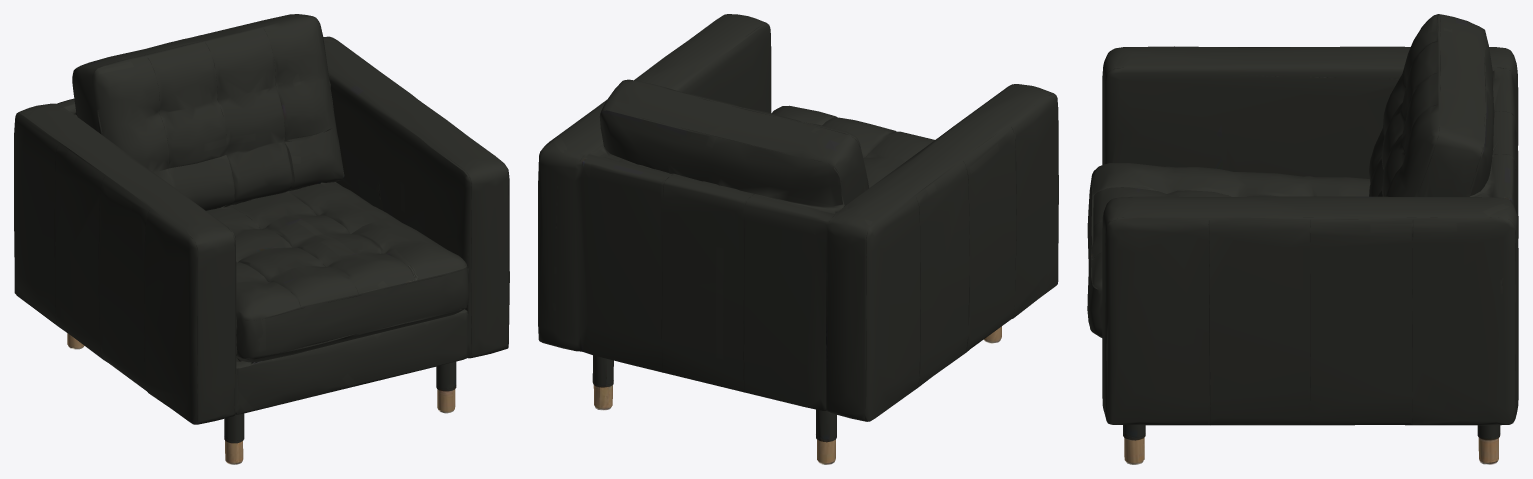
3 views of the same model, side by side, from view 1: azimuth 30°, elevation 25°; view 2: azimuth 150°, elevation 25°; view 3: azimuth 270°, elevation 25° (orthographic). The views are drawn at different scales.
Visible parts, largest first — view 1: ProcessedMeshNode; view 2: ProcessedMeshNode; view 3: ProcessedMeshNode.
Boxes of the visible parts, x1,y1,x2,y2 form: ProcessedMeshNode: (14, 14, 509, 464); ProcessedMeshNode: (538, 14, 1058, 464); ProcessedMeshNode: (1087, 14, 1518, 464).
Size of the model in its own units: 0.9053 by 0.7848 by 0.9227.
Materials: 2 (2 with a texture image).
